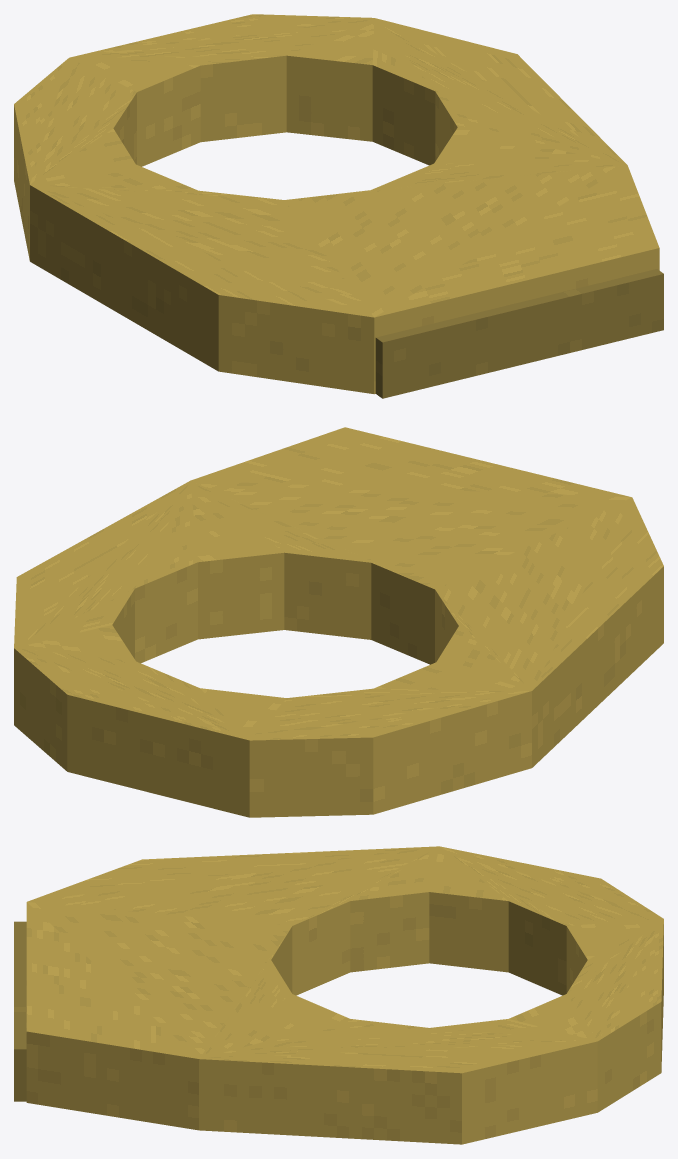
File: hood_rain.glb
The picture shows the model from 3 angles, top to bottom: view 1: azimuth 30°, elevation 25°; view 2: azimuth 150°, elevation 25°; view 3: azimuth 270°, elevation 25°; orthographic projection. The views are drawn at different scales.
Parts seen in each view (by area): view 1: block_waterproof hood shell, block_neck hem; view 2: block_waterproof hood shell; view 3: block_waterproof hood shell, block_neck hem.
Boxes of the visible parts, x1,y1,x2,y2 form: block_waterproof hood shell: (14, 14, 659, 394); block_neck hem: (375, 269, 663, 398); block_waterproof hood shell: (14, 427, 663, 817); block_waterproof hood shell: (26, 846, 663, 1144); block_neck hem: (14, 921, 26, 1101).
Size of the model in its own units: 0.1854 by 0.0272 by 0.2244.
1 material, 1 textured.
